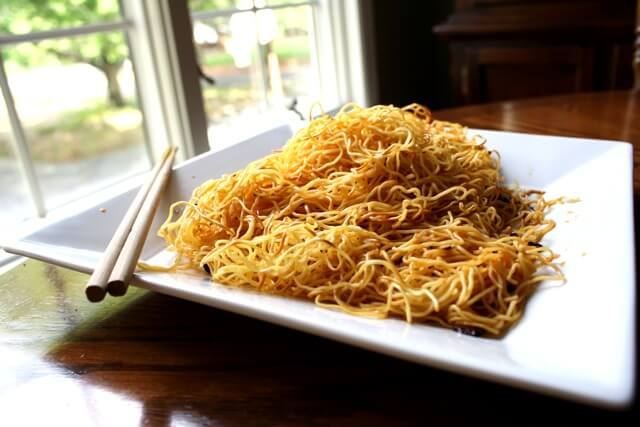plain spaghetti: (232, 136, 513, 290)
